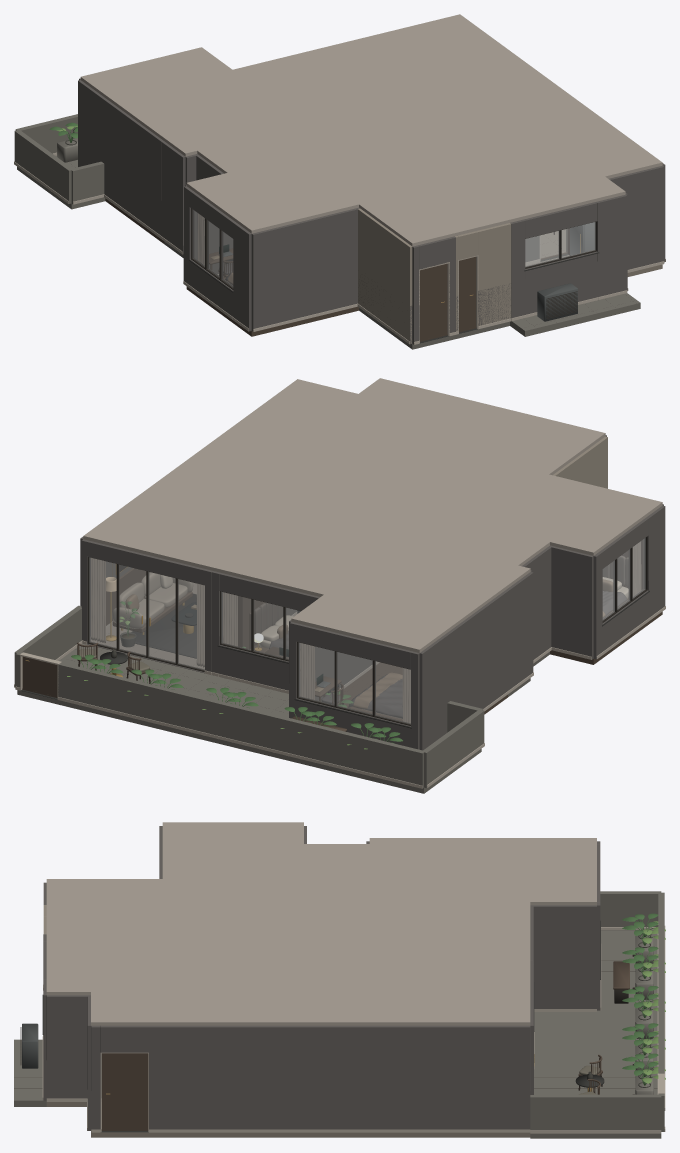
The model's file is house.glb.
3 views of the same model, one above another, from view 1: azimuth 30°, elevation 25°; view 2: azimuth 150°, elevation 25°; view 3: azimuth 270°, elevation 25° (orthographic). The views are drawn at different scales.
Visible parts, largest first — view 1: ceiling__CP_DL_Ceiling, full__CP_DL_Plaster, cutaway__CP_DL_Plaster, full__CP_DL_Service_Plaster, cutaway__CP_DL_Outdoor_Tile, full__CP_Glass, full__CP_DL_Wood_Z, shared__CP_DL_Outdoor_Tile, shared__CP_DL_Trim, full__CP_DL_Outdoor_Tile, shared__CP_DL_Appliance, full__CP_DL_Dark_Metal (+5 smaller); view 2: ceiling__CP_DL_Ceiling, full__CP_DL_Plaster, full__CP_Glass, cutaway__CP_DL_Outdoor_Tile, cutaway__CP_DL_Plaster, full__CP_DL_Outdoor_Tile, shared__CP_DL_Outdoor_Tile, full__CP_DL_Dark_Metal, full__CP_DL_Drape, shared__CP_DL_Trim, shared__CP_DL_Wood_X, shared__CP_Leaf (+10 smaller); view 3: ceiling__CP_DL_Ceiling, full__CP_DL_Plaster, cutaway__CP_DL_Plaster, shared__CP_DL_Outdoor_Tile, cutaway__CP_DL_Outdoor_Tile, full__CP_DL_Outdoor_Tile, full__CP_DL_Wood_Z, shared__CP_DL_Trim, shared__CP_DL_Floor_Stone, shared__CP_Leaf, shared__CP_Leaf_Light, shared__CP_DL_Appliance (+2 smaller).
Part boxes in pixels (left/top/right/bottom): ceiling__CP_DL_Ceiling: left=80, top=14, right=662, bottom=246; full__CP_DL_Plaster: left=78, top=78, right=665, bottom=343; cutaway__CP_DL_Plaster: left=78, top=140, right=665, bottom=344; full__CP_DL_Service_Plaster: left=358, top=208, right=511, bottom=343; cutaway__CP_DL_Outdoor_Tile: left=14, top=114, right=104, bottom=204; full__CP_Glass: left=193, top=210, right=595, bottom=286; full__CP_DL_Wood_Z: left=420, top=228, right=569, bottom=340; shared__CP_DL_Outdoor_Tile: left=17, top=138, right=640, bottom=336; shared__CP_DL_Trim: left=14, top=152, right=665, bottom=344; full__CP_DL_Outdoor_Tile: left=14, top=117, right=104, bottom=203; shared__CP_DL_Appliance: left=219, top=222, right=594, bottom=321; full__CP_DL_Dark_Metal: left=191, top=208, right=597, bottom=289; ceiling__CP_DL_Ceiling: left=83, top=378, right=662, bottom=652; full__CP_DL_Plaster: left=80, top=435, right=665, bottom=749; full__CP_Glass: left=89, top=538, right=645, bottom=723; cutaway__CP_DL_Outdoor_Tile: left=14, top=605, right=484, bottom=788; cutaway__CP_DL_Plaster: left=80, top=575, right=657, bottom=750; full__CP_DL_Outdoor_Tile: left=14, top=606, right=483, bottom=787; shared__CP_DL_Outdoor_Tile: left=17, top=643, right=481, bottom=793; full__CP_DL_Dark_Metal: left=87, top=536, right=647, bottom=725; full__CP_DL_Drape: left=91, top=541, right=641, bottom=723; shared__CP_DL_Trim: left=14, top=598, right=665, bottom=788; shared__CP_DL_Wood_X: left=77, top=558, right=662, bottom=731; shared__CP_Leaf: left=71, top=601, right=402, bottom=743; ceiling__CP_DL_Ceiling: left=46, top=822, right=596, bottom=1025; full__CP_DL_Plaster: left=43, top=826, right=600, bottom=1129; cutaway__CP_DL_Plaster: left=43, top=969, right=600, bottom=1130; shared__CP_DL_Outdoor_Tile: left=14, top=930, right=661, bottom=1138; cutaway__CP_DL_Outdoor_Tile: left=530, top=891, right=664, bottom=1131; full__CP_DL_Outdoor_Tile: left=530, top=891, right=664, bottom=1131; full__CP_DL_Wood_Z: left=102, top=1053, right=148, bottom=1129; shared__CP_DL_Trim: left=42, top=926, right=665, bottom=1133; shared__CP_DL_Floor_Stone: left=46, top=1102, right=530, bottom=1137; shared__CP_Leaf: left=622, top=913, right=658, bottom=1085; shared__CP_Leaf_Light: left=642, top=921, right=665, bottom=1083; shared__CP_DL_Appliance: left=22, top=1023, right=38, bottom=1068.
Size of the model in its own units: 11.66 by 3.03 by 15.55.
